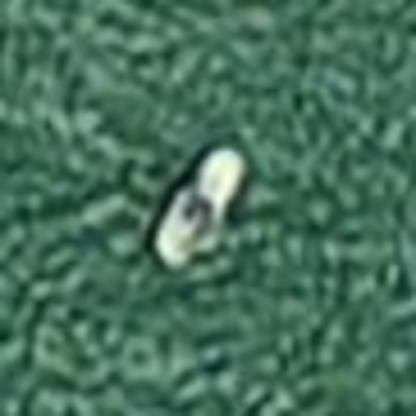ship: (134, 133, 259, 281)
